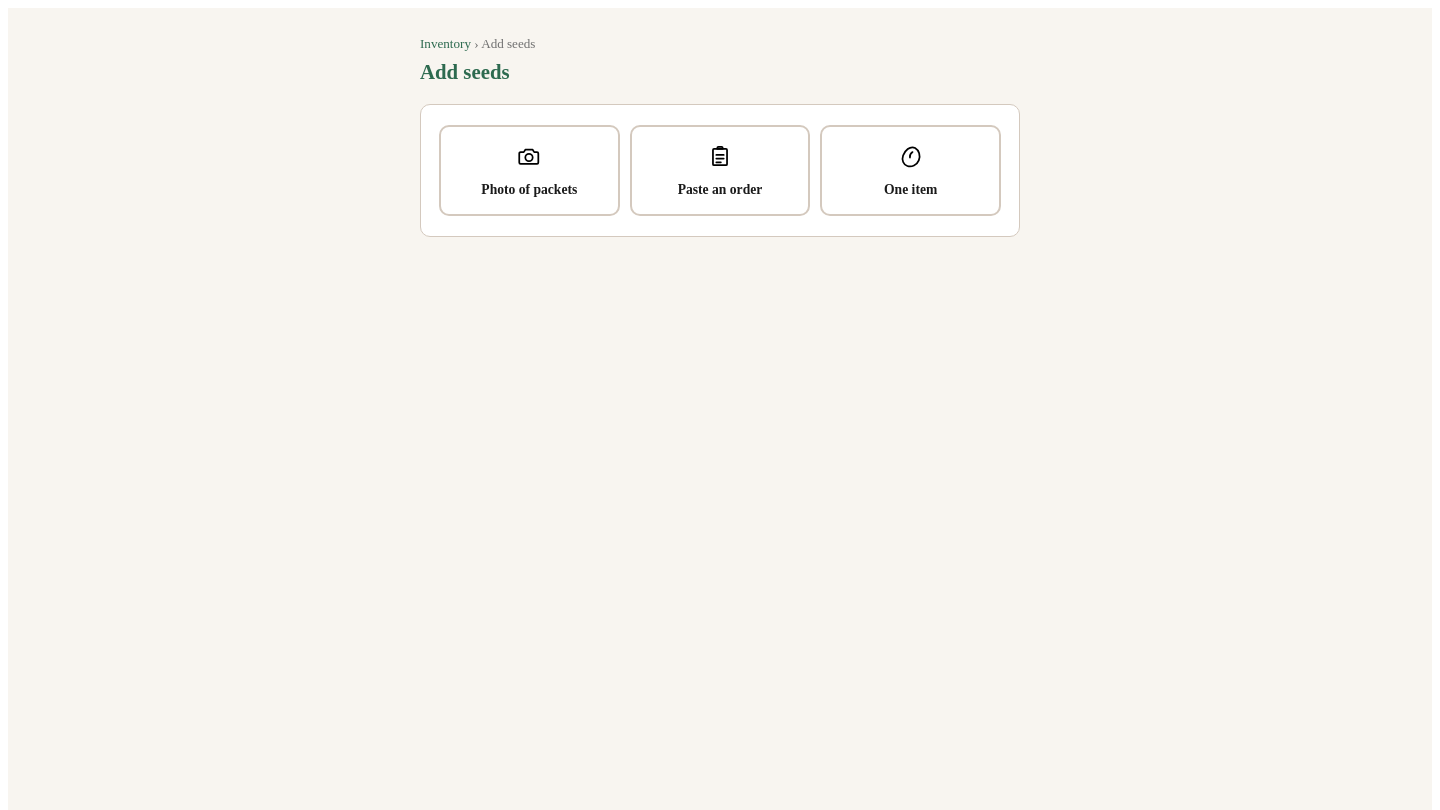
AddSeeds — paste extract wire › POSTs /api/inventory-items/extract-seeds with {mode:"text", text}
Click the radio button labelled "Paste an order": {"x": 720, "y": 170} 630,125 -> 810,216
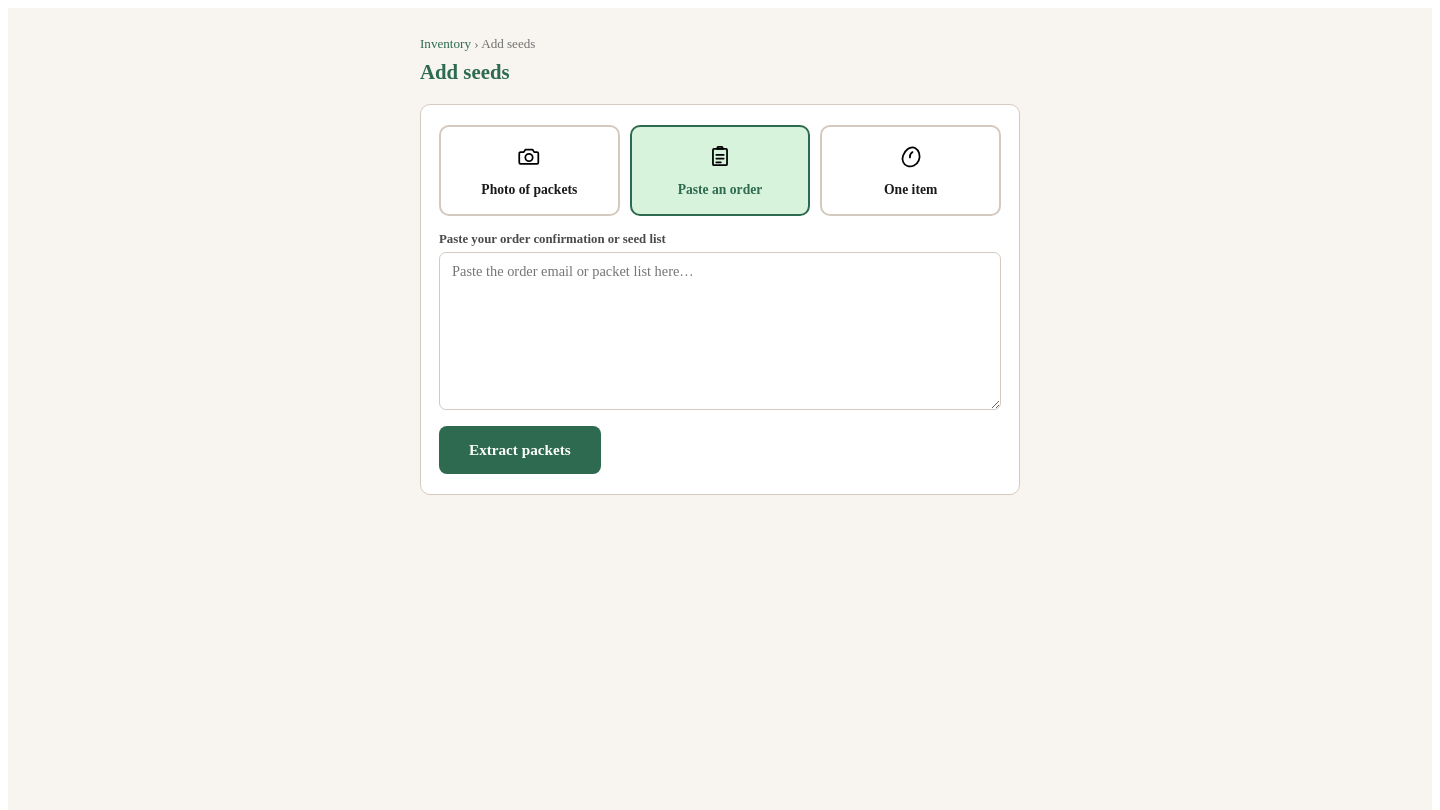
In the text box: {"x": 720, "y": 331} 439,252 -> 1001,410, type "Order #123: Shirley Single Blend Corn Poppy Seeds x1 $1.35"
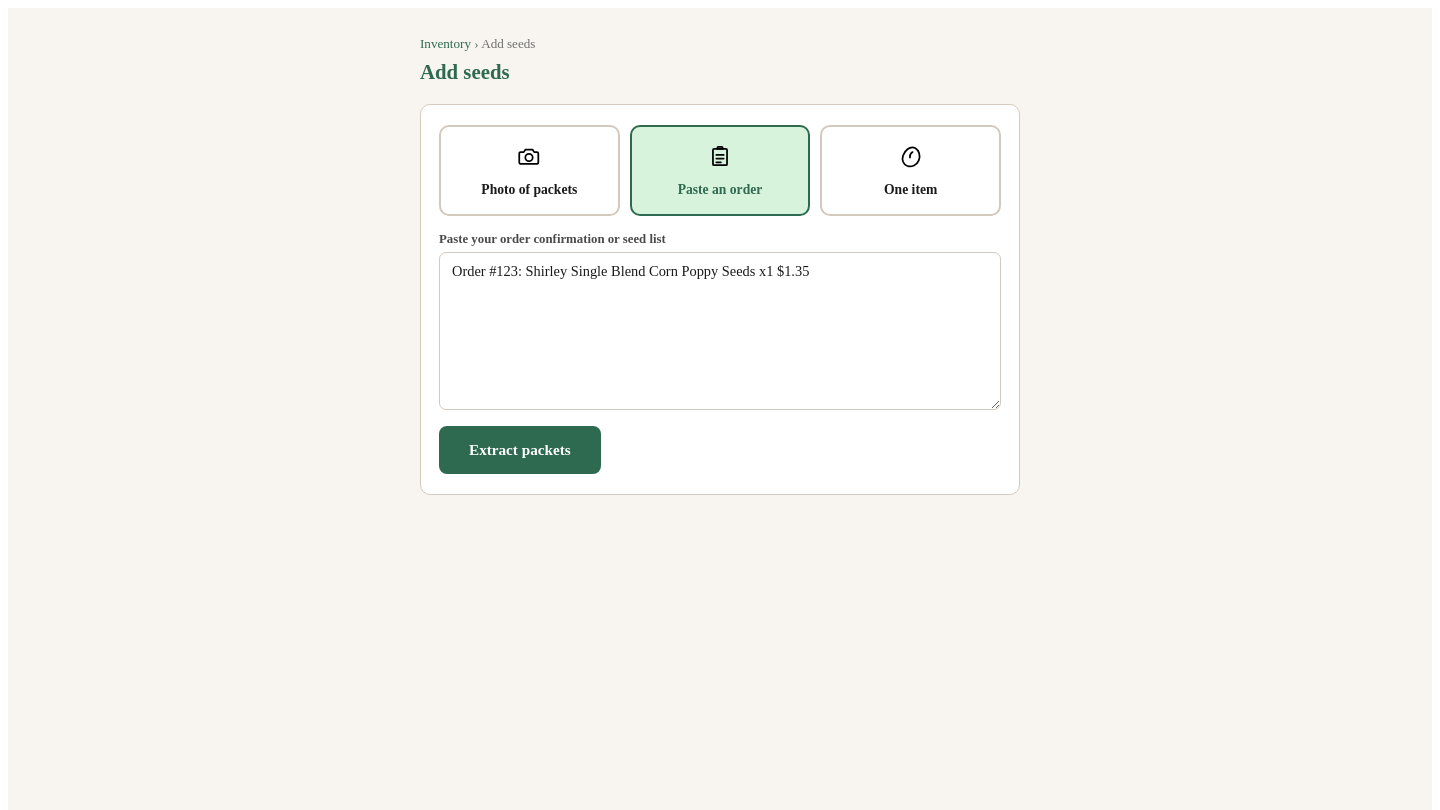
Click the button "Extract packets": {"x": 520, "y": 450} 439,426 -> 601,474
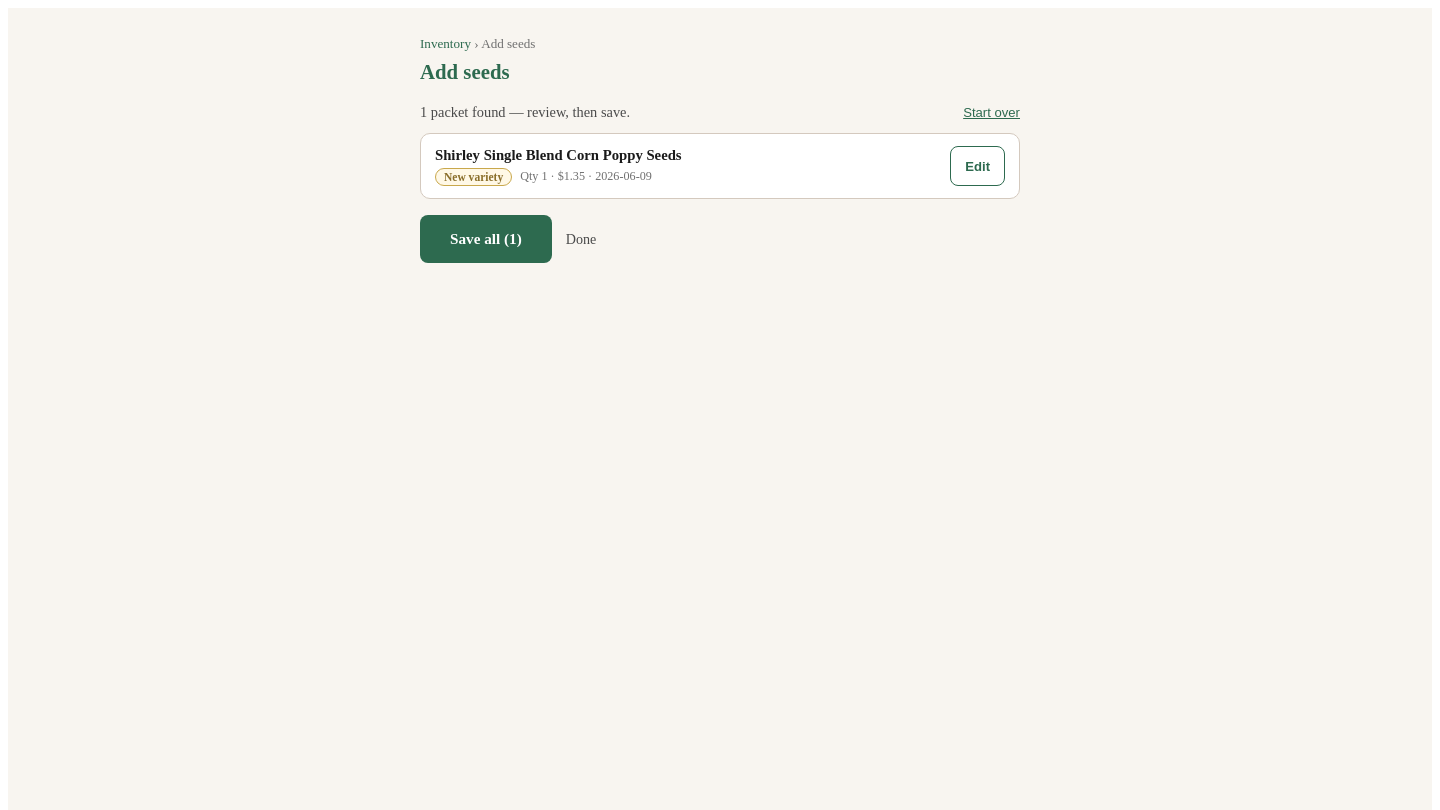
Result: the text "Shirley Single Blend Corn Poppy Seeds" is shown at 435,146 -> 682,162
Result: the text "New variety" is shown at 435,168 -> 512,186
